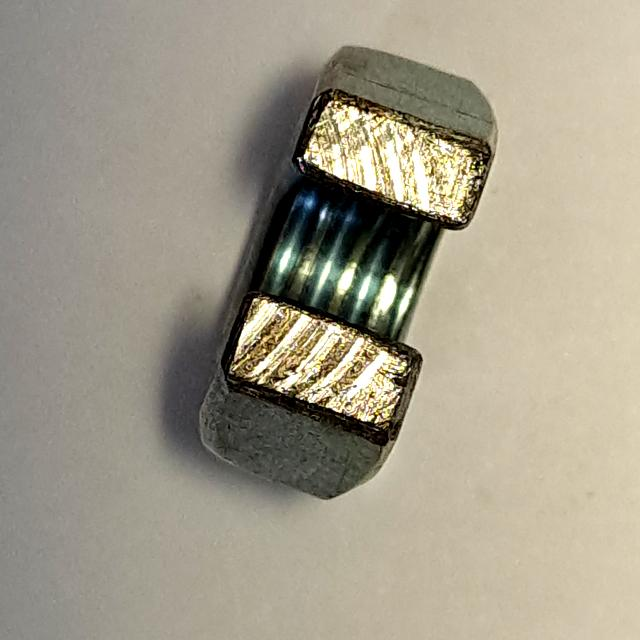Side-Fracture: (179, 32, 508, 519)
